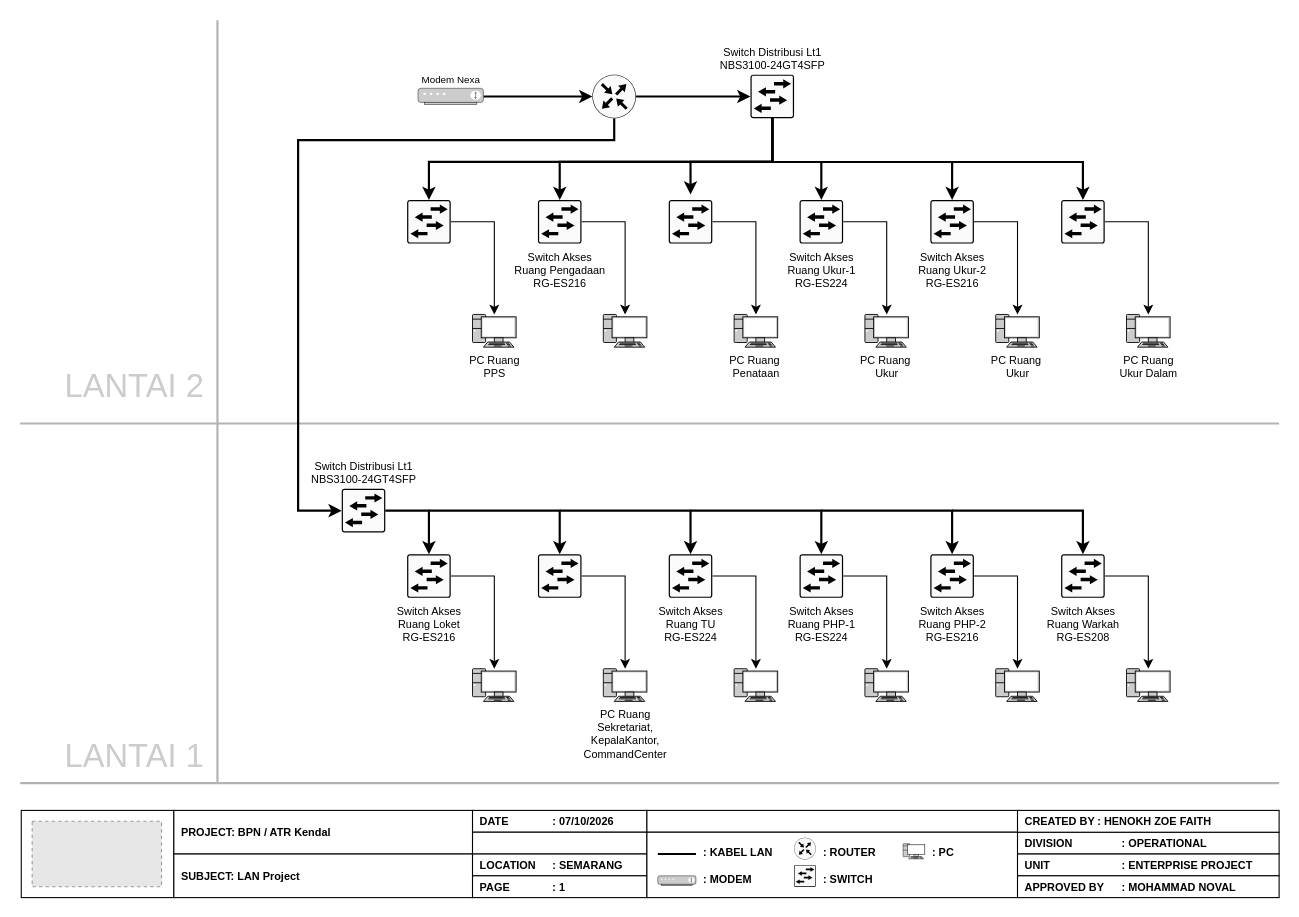
This 1299x917 diagram has some shape labels left out. Grey dashed boxes stand in for pictures. Each missing label, with the centre of its shape:
FILE : TOPOLOGY: point 559,842
LEGEND:: point 832,820
Mikrotik RB4011: point 613,96
PC Loket: point 494,684
PC Ruang Pengadaan: point 624,330
PC Ruang PHP: point 1017,684
PC Ruang PHP, Ruang BT: point 886,684
PC Ruang TU: point 755,684
PC Ruang Warkah, GU: point 1148,684
Switch Akses Ruang Penataan RG-ES216: point 690,221
Switch Akses Ruang PPS RG-ES216: point 428,221
Switch Akses Ruang Sekretariat RG-ES208: point 559,575
Switch Akses Ruang Ukur Dalam RG-ES224: point 1082,221
